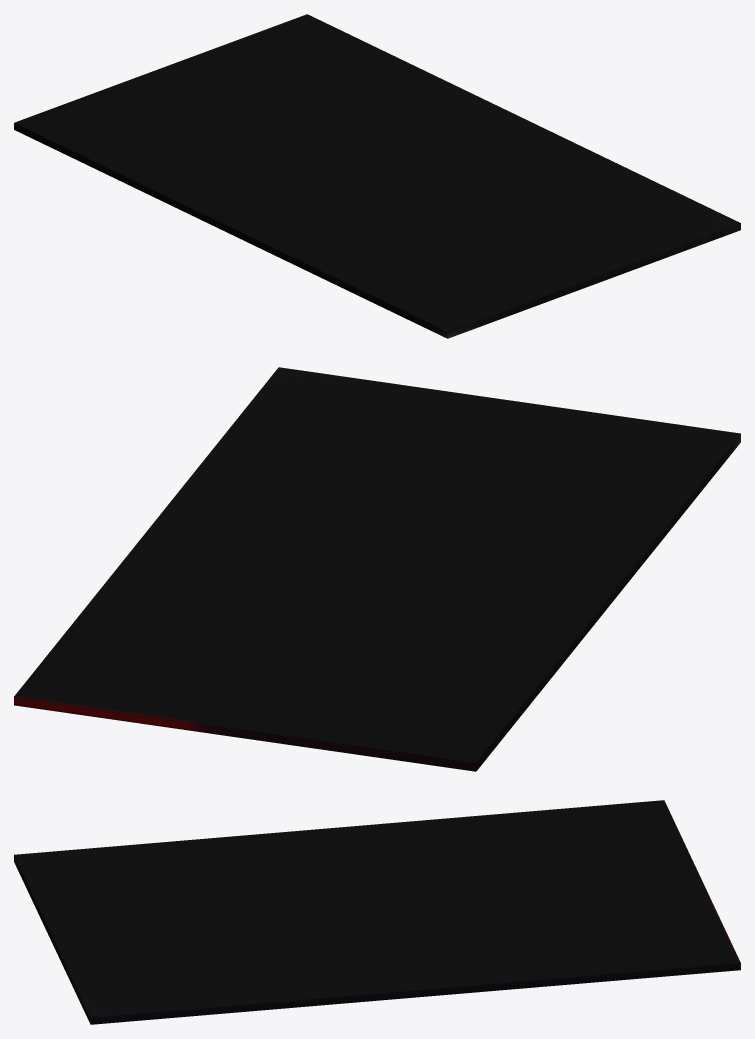
File: tablet.glb
3 renders of one model, top to bottom at view 1: azimuth 30°, elevation 25°; view 2: azimuth 150°, elevation 25°; view 3: azimuth 270°, elevation 25°, orthographic. The views are drawn at different scales.
Parts seen in each view (by area): view 1: tablet; view 2: tablet; view 3: tablet.
Part boxes in pixels (bbox=[...]): tablet: bbox=[14, 14, 740, 338]; tablet: bbox=[14, 367, 740, 771]; tablet: bbox=[14, 800, 740, 1024].
Bounding box in the file's own units: 0.4482 × 0.00679 × 0.6327.
1 material, 1 textured.
